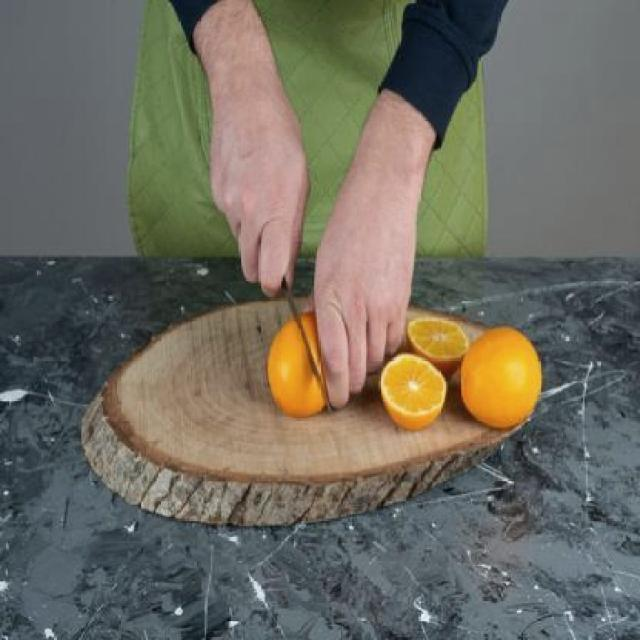Jeruk Sudah Matang: (463, 324, 542, 430), (268, 313, 342, 419), (408, 313, 468, 375)
